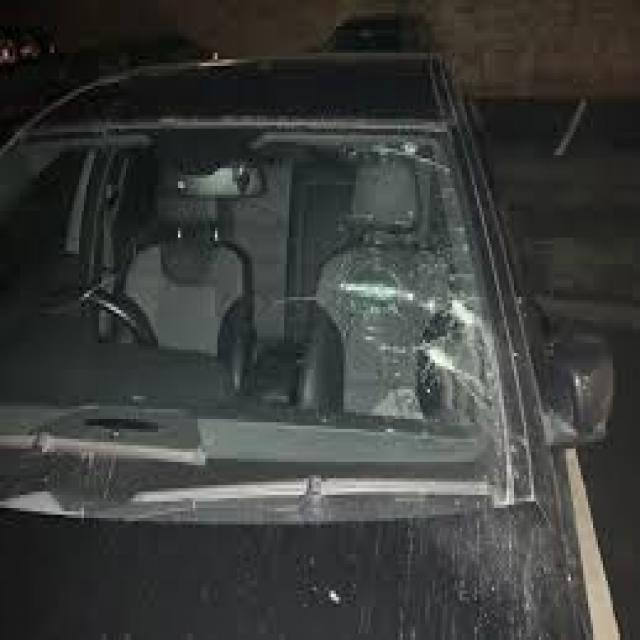damaged-windscreen: (0, 119, 512, 522)
